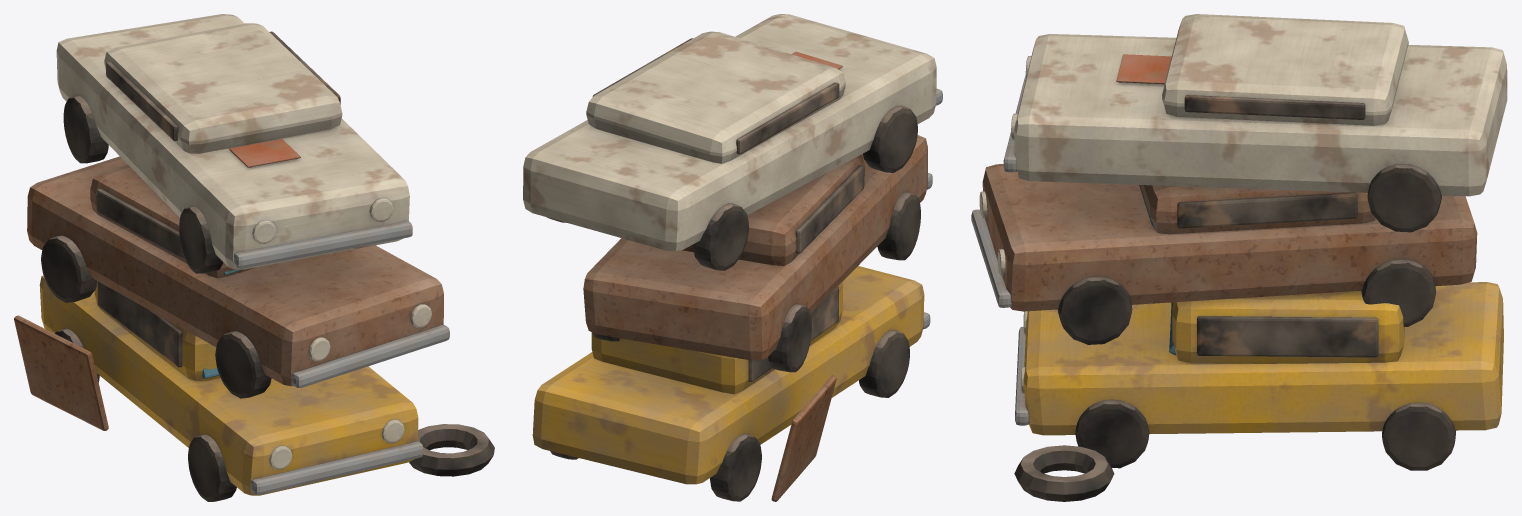
Rendered from car_stack_c.glb.
3 renders of one model, left to right at view 1: azimuth 30°, elevation 25°; view 2: azimuth 150°, elevation 25°; view 3: azimuth 270°, elevation 25°, orthographic. The views are drawn at different scales.
Parts seen in each view (by area): view 1: CarC_Mesh, CarB_Mesh, CarA_Mesh, CarStack_Mesh; view 2: CarC_Mesh, CarA_Mesh, CarB_Mesh, CarStack_Mesh; view 3: CarC_Mesh, CarA_Mesh, CarB_Mesh, CarStack_Mesh.
Part boxes in pixels (<box>): CarC_Mesh: <box>56,14,412,273</box>; CarB_Mesh: <box>27,156,449,398</box>; CarA_Mesh: <box>39,275,423,501</box>; CarStack_Mesh: <box>14,315,494,476</box>; CarC_Mesh: <box>523,14,942,270</box>; CarA_Mesh: <box>532,266,930,501</box>; CarB_Mesh: <box>583,135,932,372</box>; CarStack_Mesh: <box>771,375,836,501</box>; CarC_Mesh: <box>1003,14,1507,232</box>; CarA_Mesh: <box>1015,282,1503,470</box>; CarB_Mesh: <box>971,164,1477,344</box>; CarStack_Mesh: <box>1014,445,1114,501</box>.
Size of the model in its own units: 3.05 by 3.28 by 4.28.
4 materials, 4 textured.
